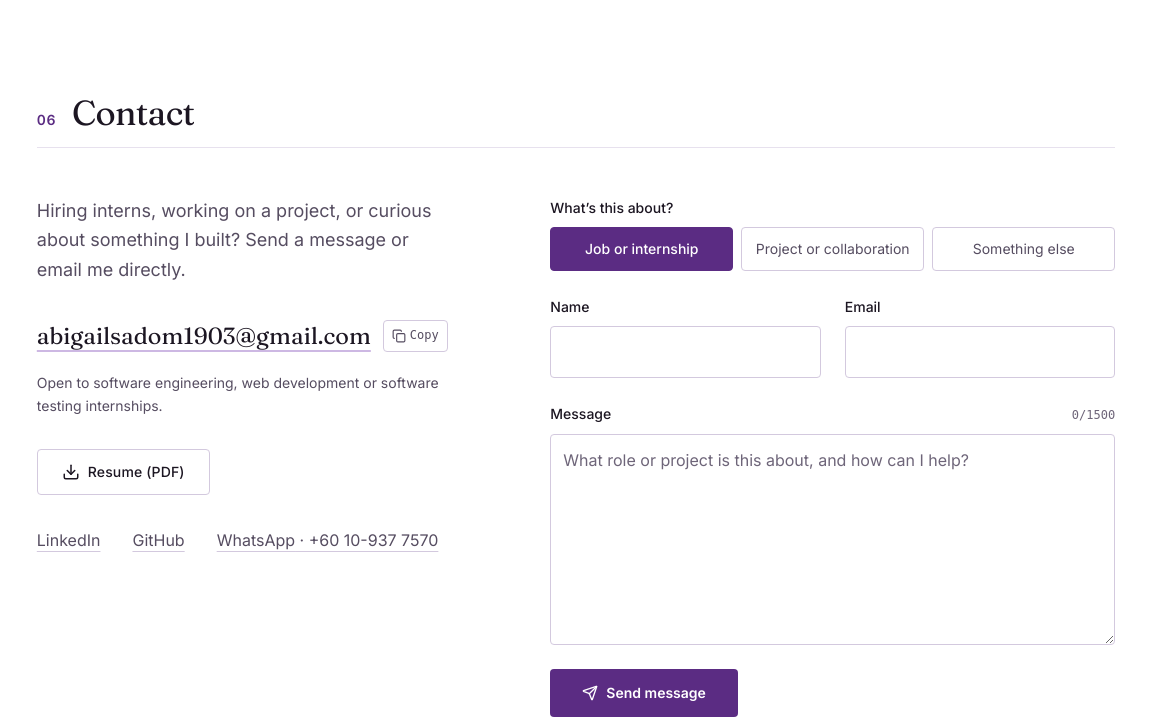
Contact › shows errors, marks fields invalid and focuses the first one
Step 1. Click the button "Send message" → (644,693), box top-left (550, 669), bottom-right (738, 717)
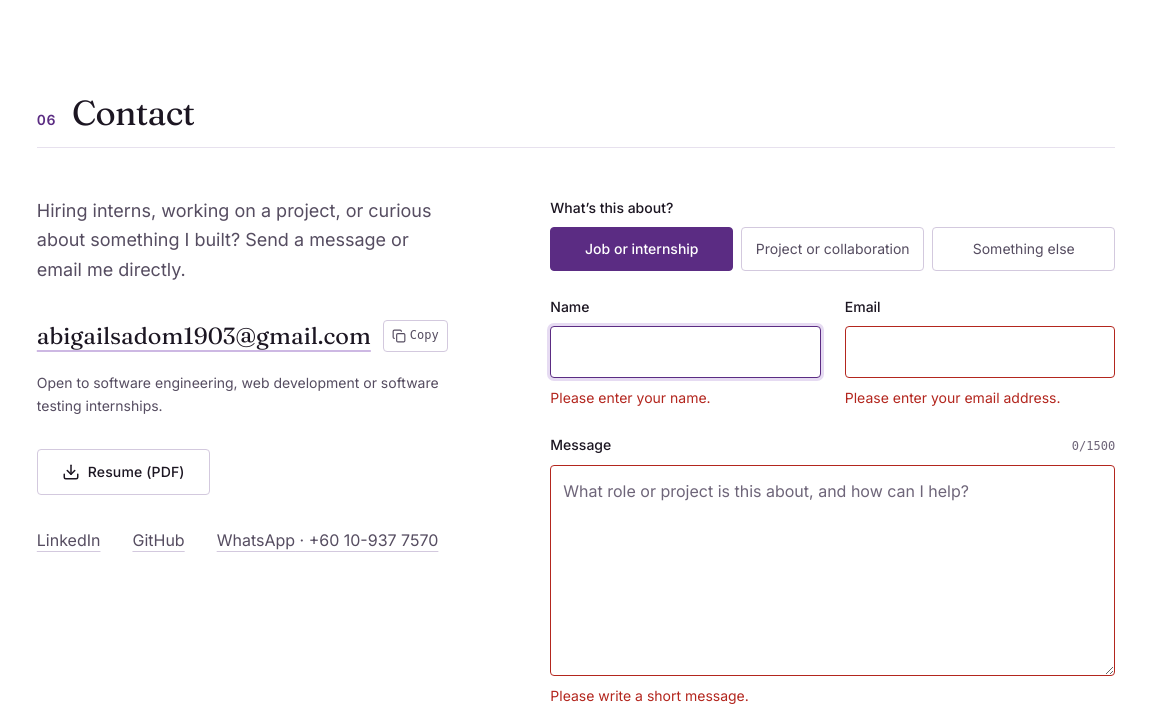
Now the text "Please write a short message." is shown, box top-left (550, 687), bottom-right (749, 704)
